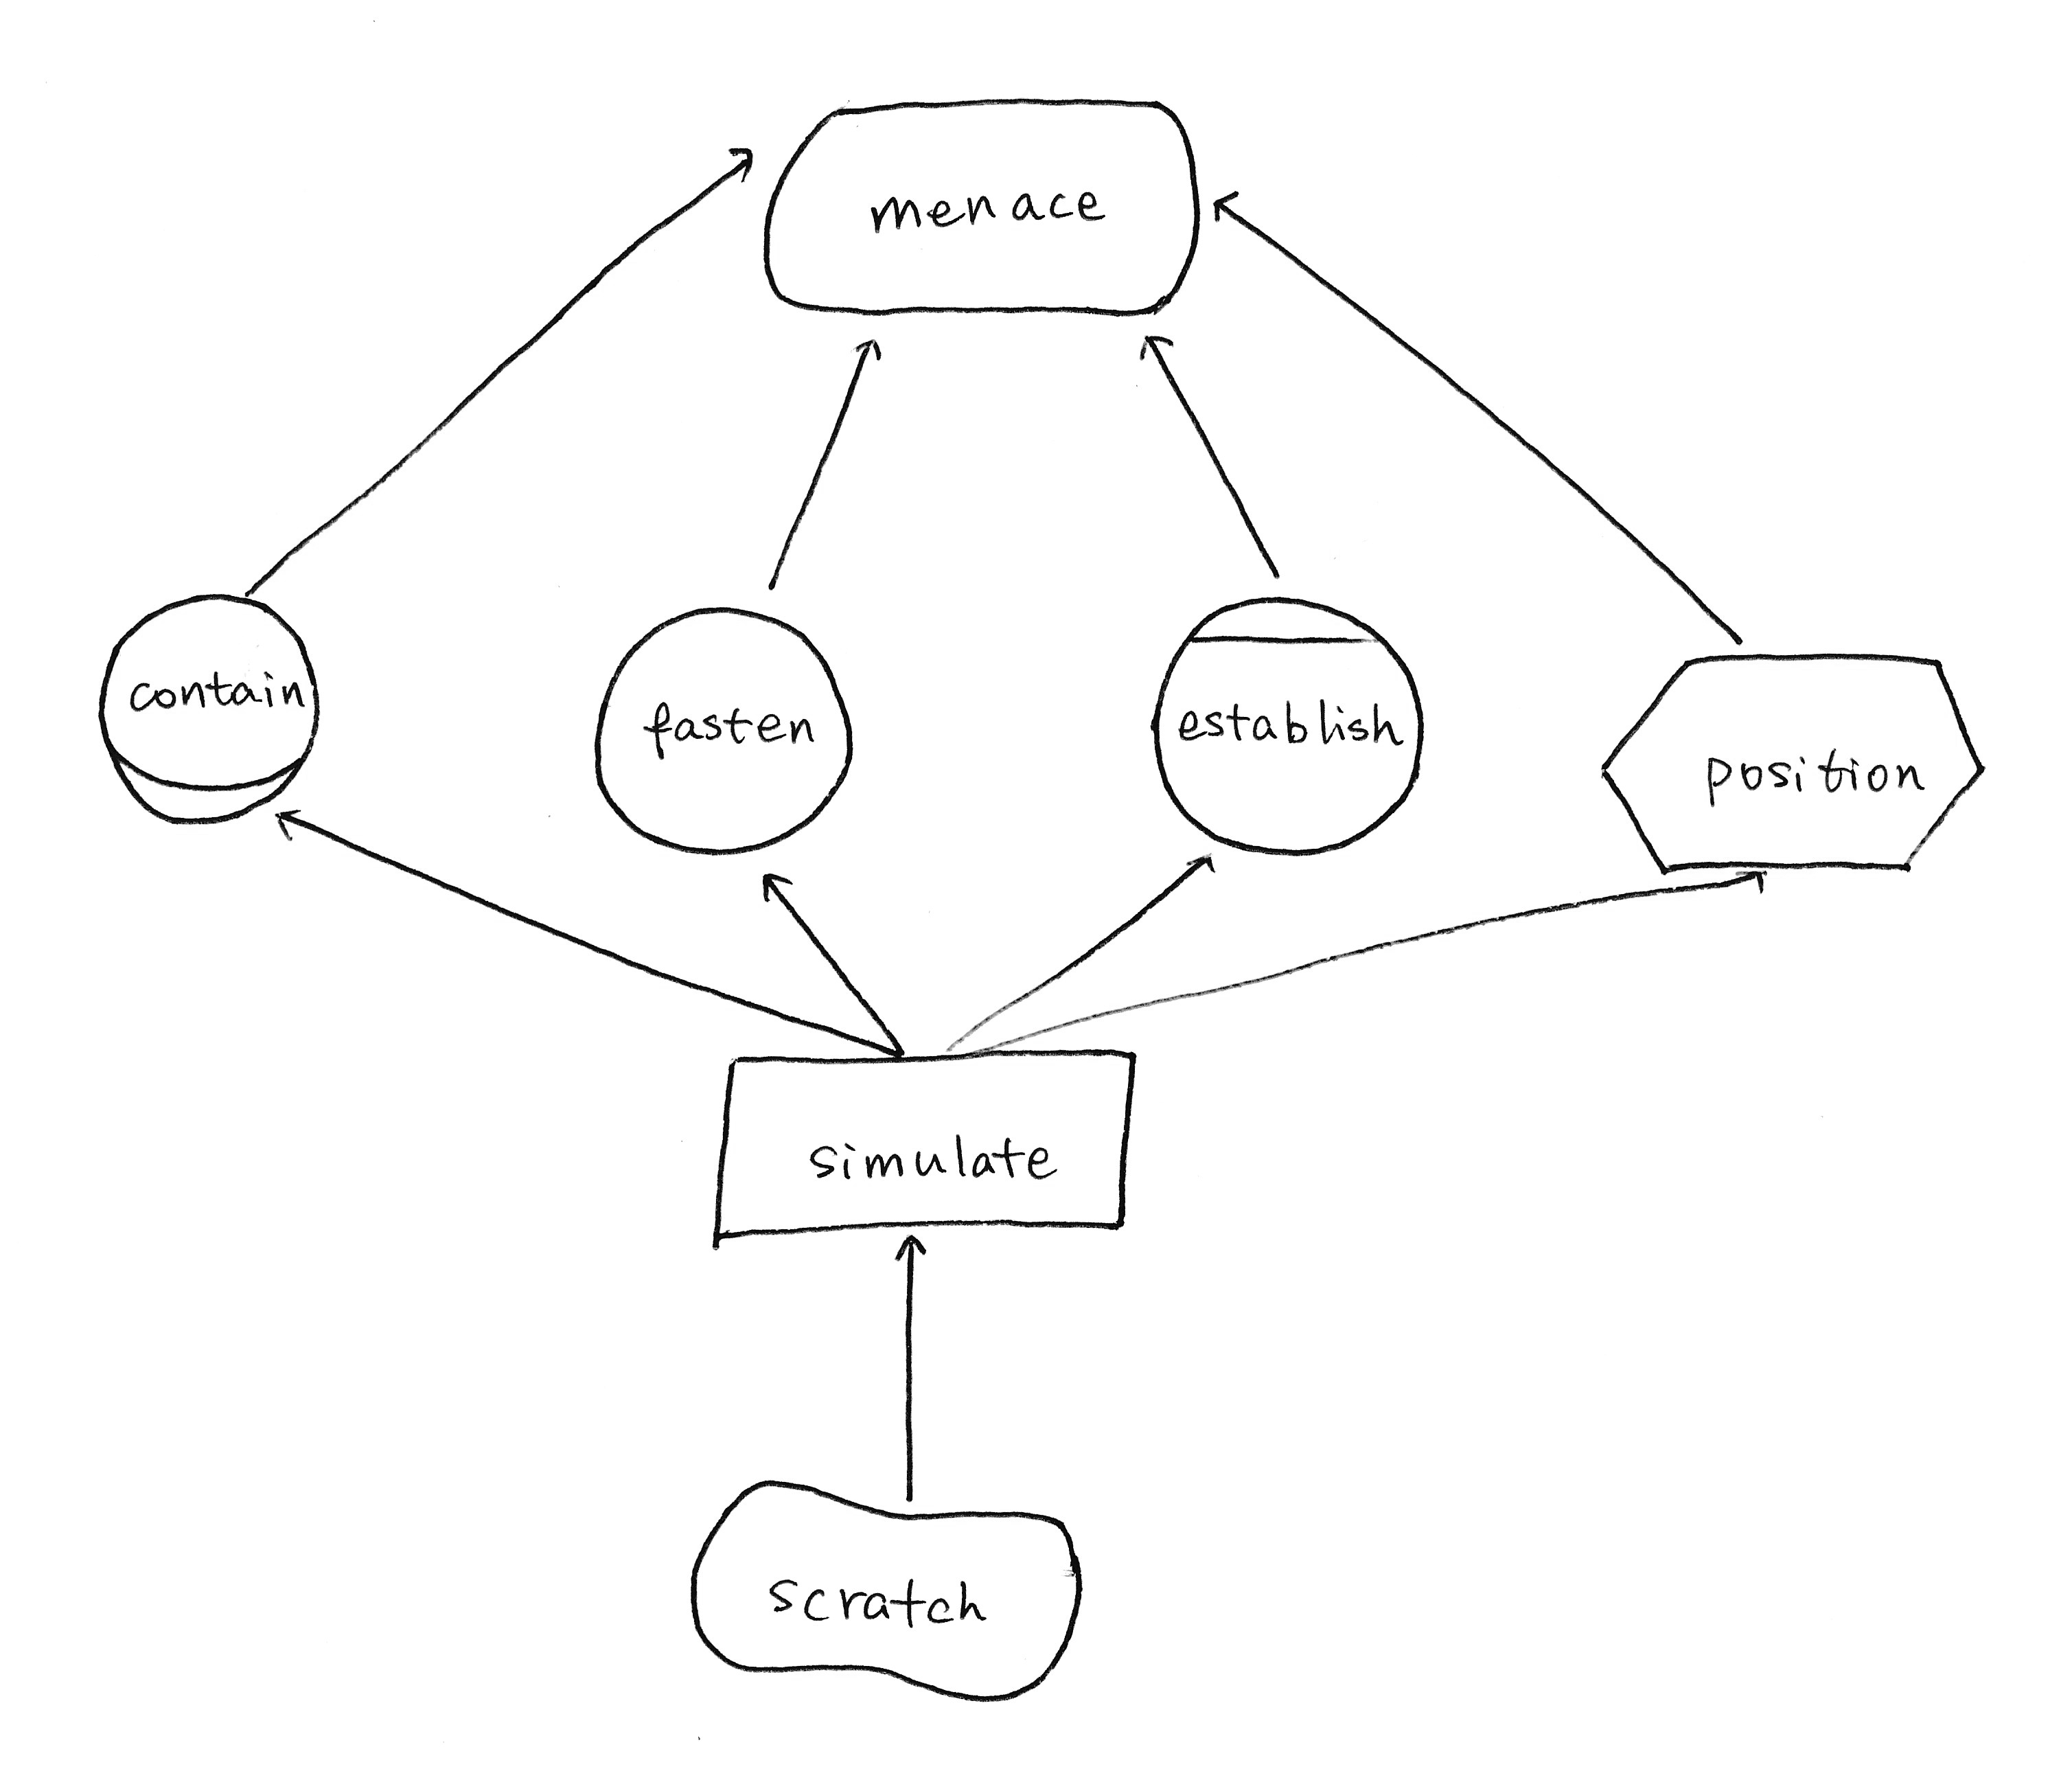actor: (579, 595, 877, 862)
agent: (1135, 579, 1433, 869)
arrow: (249, 786, 332, 858), (1695, 853, 1804, 907), (833, 319, 907, 391), (1179, 170, 1261, 233), (872, 1211, 939, 1285), (733, 853, 805, 916), (712, 121, 777, 190), (1149, 842, 1237, 890), (1123, 316, 1190, 367)
goal: (740, 75, 1232, 342)
quality: (667, 1453, 1100, 1716)
resource: (691, 1027, 1158, 1260)
role: (86, 579, 337, 839)
task: (1590, 637, 2005, 893)
